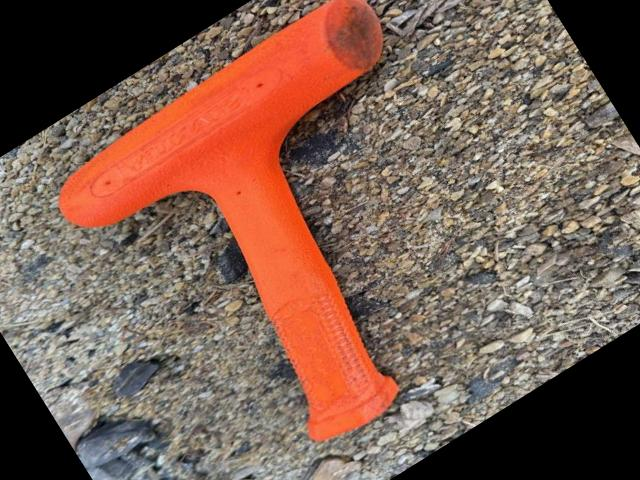hammer: (38, 0, 554, 480)
